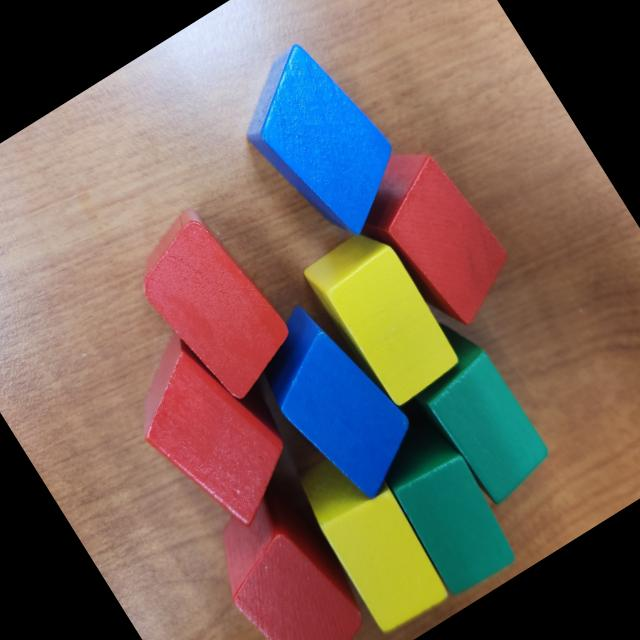blue: (217, 28, 422, 256), (236, 284, 435, 516)
green: (381, 304, 561, 516), (364, 411, 526, 600)
red: (106, 312, 314, 550), (330, 128, 531, 350), (117, 196, 310, 416), (190, 475, 388, 640)
yellow: (286, 435, 456, 638), (299, 219, 467, 413)
